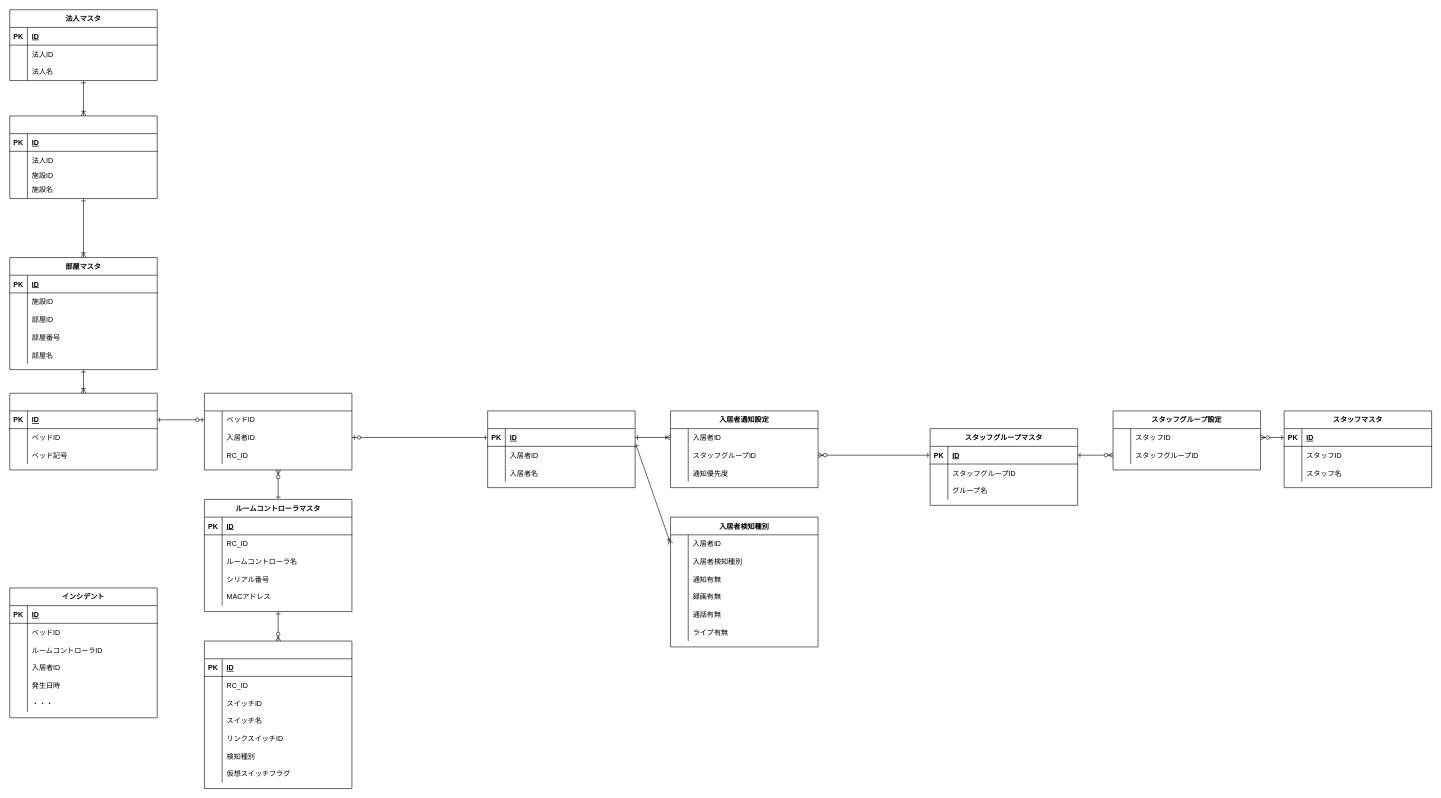
This 1441x798 diagram has some shape labels left out. The box of each missing label's shape, as (x1, y1, x2, y2) in pixels:
スイッチマスタ: (204, 640, 352, 789)
ベッドマスタ: (9, 393, 157, 470)
ベッド／入居者／RC: (204, 393, 352, 470)
入居者マスタ: (487, 410, 635, 488)
施設マスタ: (9, 115, 157, 199)
